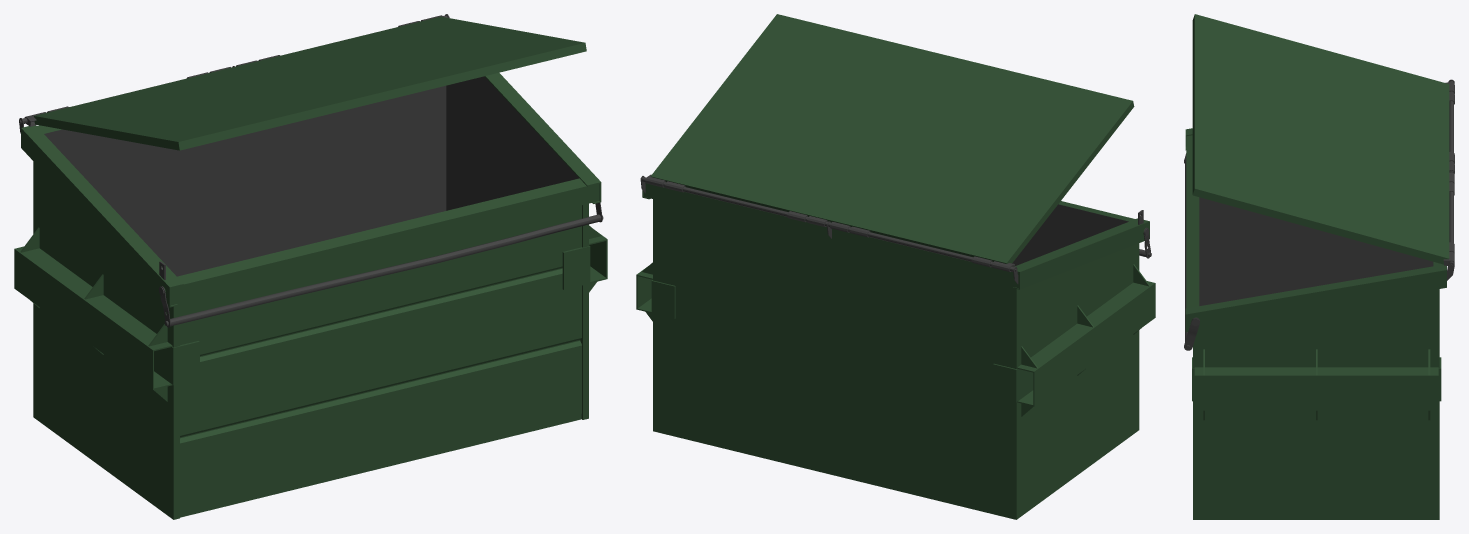
Rendered from Dumpster.fbx.
The picture shows the model from 3 angles, left to right: view 1: azimuth 30°, elevation 25°; view 2: azimuth 150°, elevation 25°; view 3: azimuth 270°, elevation 25°; orthographic projection. The views are drawn at different scales.
Visible parts, largest first — view 1: Dumpster.001; view 2: Dumpster.001; view 3: Dumpster.001.
Boxes of the visible parts, box(x1,y1,x2,y2) form: Dumpster.001: box(14, 14, 607, 519); Dumpster.001: box(636, 14, 1155, 519); Dumpster.001: box(1184, 14, 1454, 519).
Size of the model in its own units: 308 by 243 by 181.
